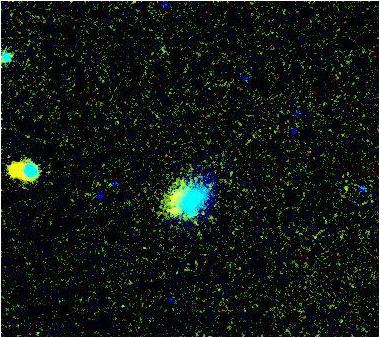star: (157, 195, 187, 225)
